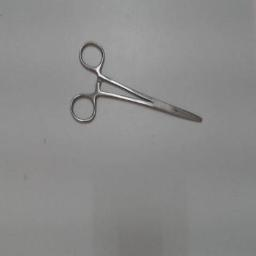Mayo Needle Holder: (66, 36, 210, 130)
